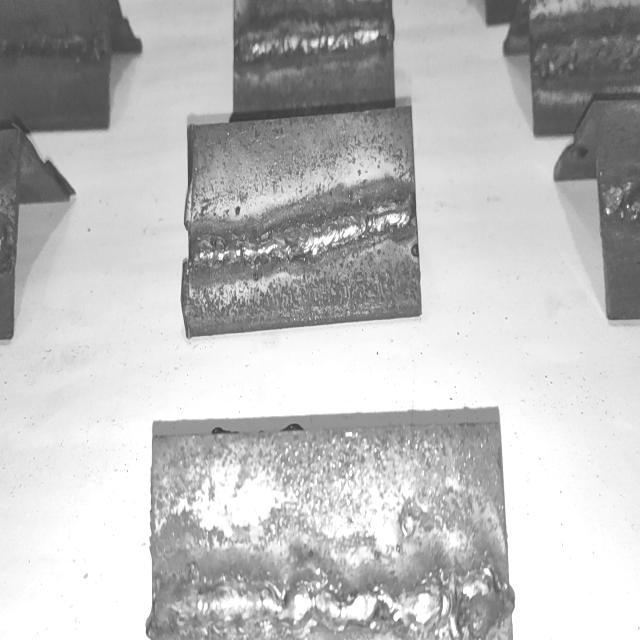Defect: (189, 229, 300, 272), (362, 574, 406, 634)
Welding Line: (156, 570, 509, 635), (190, 198, 416, 272), (236, 14, 392, 66), (536, 34, 640, 76), (0, 32, 110, 68)
Workpiece: (148, 413, 515, 640), (182, 105, 420, 331), (231, 0, 399, 127), (526, 0, 640, 140), (0, 0, 113, 130)
